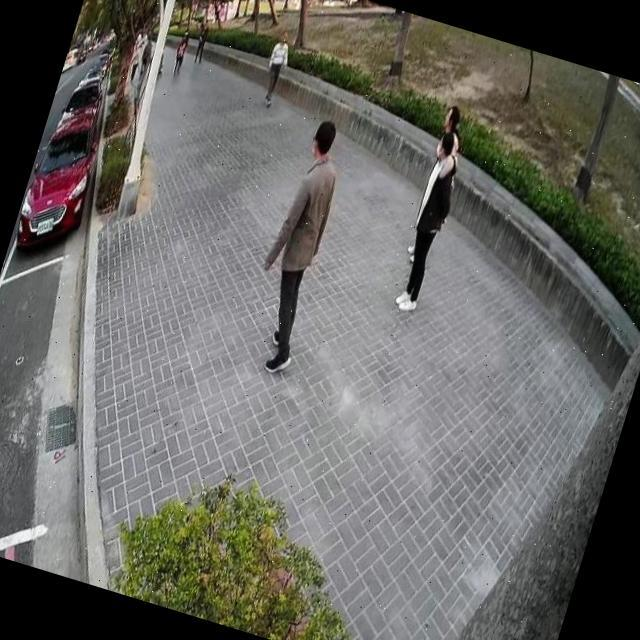person: (228, 106, 364, 382), (386, 124, 474, 319), (399, 98, 476, 270), (256, 26, 299, 110), (132, 30, 160, 82), (190, 16, 216, 68), (122, 36, 148, 85), (169, 30, 193, 76)
